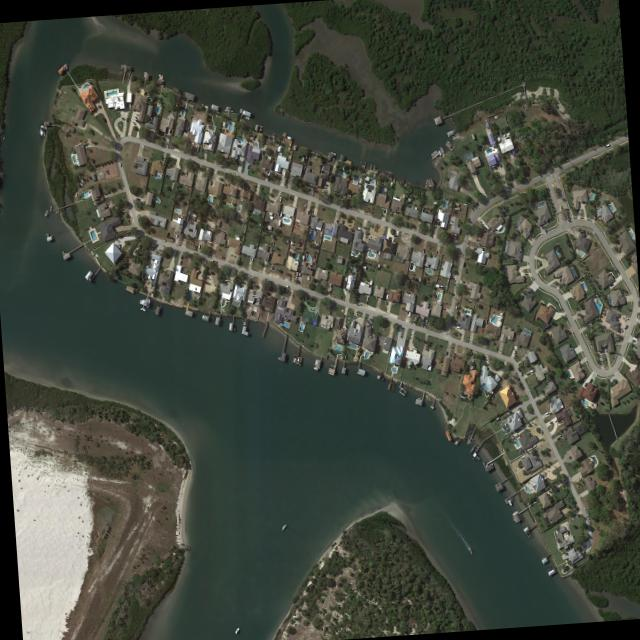ship: (38, 123, 43, 135), (510, 509, 517, 515), (506, 497, 511, 505), (145, 297, 149, 306), (281, 168, 285, 177), (285, 134, 292, 139), (631, 335, 637, 340), (305, 206, 309, 213), (384, 292, 388, 299), (312, 365, 317, 370), (291, 356, 295, 362), (156, 73, 162, 77), (224, 105, 230, 109), (278, 210, 281, 217), (295, 357, 298, 364), (576, 475, 580, 480), (277, 195, 280, 201), (318, 230, 321, 236), (453, 439, 456, 444), (238, 107, 241, 112), (306, 274, 308, 280), (400, 294, 402, 299)
small-vehicle: (79, 178, 84, 183), (622, 322, 626, 328), (516, 366, 520, 371), (543, 410, 548, 414), (343, 323, 347, 328), (470, 352, 474, 357), (616, 246, 619, 252), (117, 160, 120, 166), (211, 259, 217, 262), (293, 275, 296, 281), (630, 340, 634, 344), (507, 409, 511, 413), (582, 545, 586, 549), (219, 254, 223, 258), (604, 142, 608, 146), (477, 219, 481, 223), (91, 140, 96, 143), (79, 181, 82, 186), (134, 196, 139, 199), (208, 179, 211, 184), (302, 202, 305, 207), (265, 168, 268, 173), (179, 253, 182, 258), (436, 220, 439, 225), (389, 210, 392, 215), (451, 353, 454, 358), (498, 162, 501, 167), (384, 300, 387, 305), (291, 275, 294, 280), (581, 549, 584, 553), (630, 338, 634, 341), (617, 328, 621, 331), (512, 349, 515, 353), (525, 371, 529, 374), (553, 417, 556, 421), (555, 436, 559, 439), (167, 128, 170, 132), (84, 176, 87, 180), (174, 232, 177, 236), (161, 238, 165, 241), (323, 185, 327, 188), (323, 182, 327, 185), (424, 347, 428, 350), (467, 359, 470, 363), (543, 228, 546, 232), (472, 246, 476, 249), (471, 239, 475, 242), (474, 238, 478, 241), (527, 235, 530, 239), (460, 279, 464, 282), (309, 307, 313, 310), (328, 286, 330, 292), (284, 284, 288, 287), (365, 295, 368, 299), (604, 346, 606, 351), (245, 163, 247, 168), (250, 256, 252, 261), (197, 243, 199, 248), (265, 175, 267, 180), (310, 189, 312, 194), (308, 189, 310, 194), (449, 276, 454, 278), (421, 247, 423, 252), (455, 299, 457, 304), (524, 354, 527, 357), (548, 410, 551, 413), (280, 295, 283, 298), (523, 272, 527, 274), (103, 195, 107, 197), (178, 259, 180, 263), (382, 208, 384, 212), (248, 256, 250, 260), (270, 264, 272, 268), (542, 224, 544, 228), (434, 249, 436, 253), (445, 350, 447, 354), (471, 358, 473, 362), (558, 277, 560, 281), (449, 273, 453, 275), (334, 218, 336, 222), (346, 223, 350, 225), (328, 310, 330, 314), (341, 313, 343, 317), (433, 357, 435, 361), (593, 216, 595, 219), (239, 160, 241, 163), (441, 307, 444, 309), (341, 218, 342, 223), (365, 300, 366, 303)
